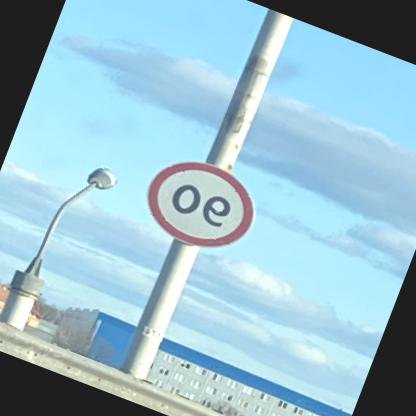speedlimit: (137, 146, 269, 262)
